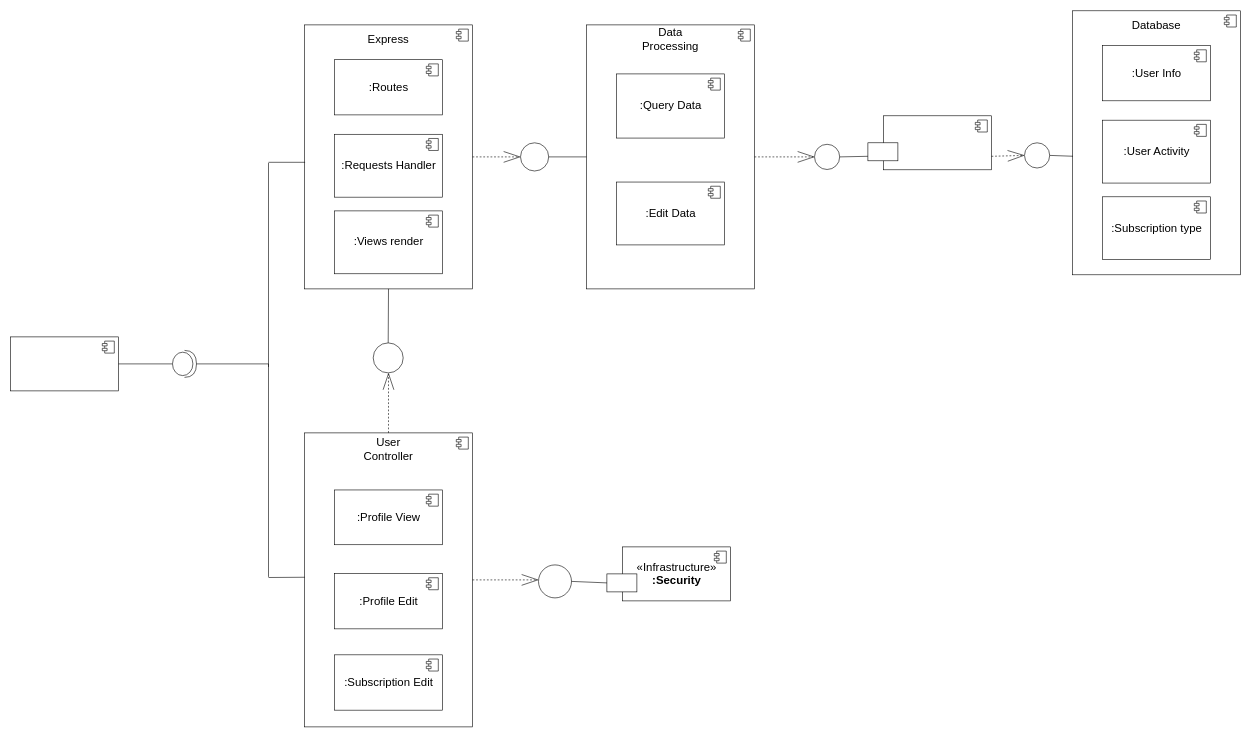
Image size: 1251x737. Some labels were removed from this diagram. The shapes that lost their labels are listed below. From the top down, each one's centre as x and y in pixels, then its label:
point (937, 142): «Infrastructure» :Persistence
point (64, 363): «Web browser» :User Interface
